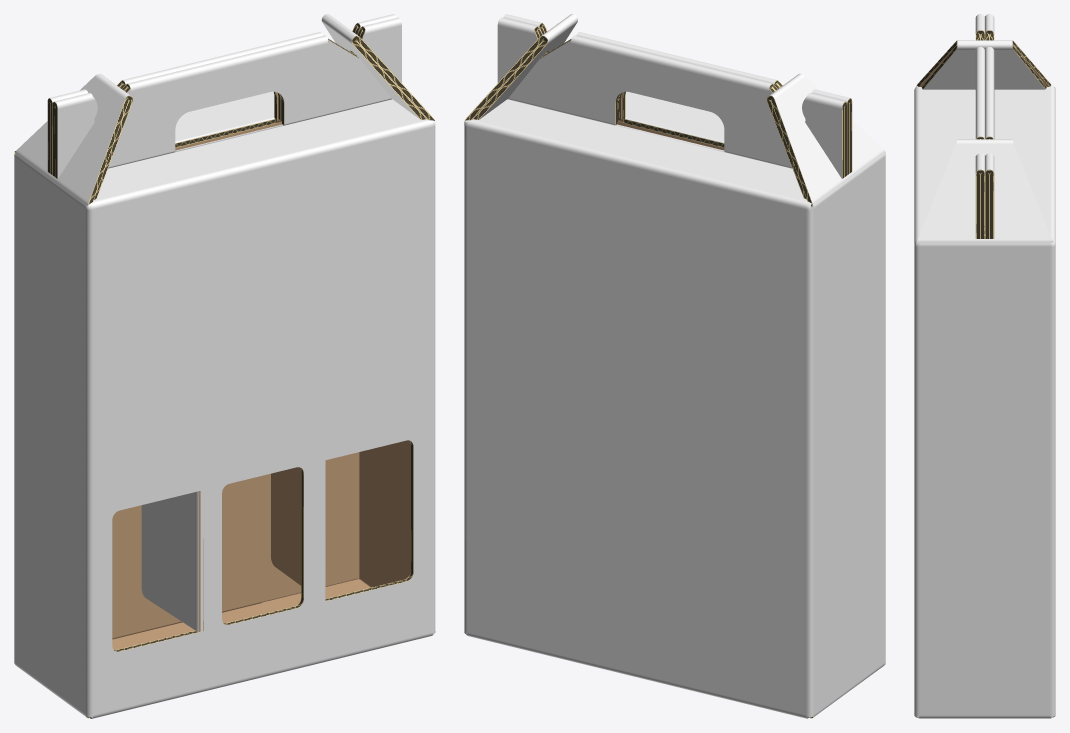
The model's file is Troquel4e0066.gltf.
3 renders of one model, left to right at view 1: azimuth 30°, elevation 25°; view 2: azimuth 150°, elevation 25°; view 3: azimuth 270°, elevation 25°, orthographic. The views are drawn at different scales.
Visible parts, largest first — view 1: _4E0066_ARD-node; view 2: _4E0066_ARD-node; view 3: _4E0066_ARD-node.
Part boxes in pixels (<box>): _4E0066_ARD-node: <box>14,14,435,718</box>; _4E0066_ARD-node: <box>464,14,885,718</box>; _4E0066_ARD-node: <box>914,14,1055,718</box>.
Bounding box in the file's own units: 0.2434 × 0.3983 × 0.0922.
Materials: 3 (1 with a texture image).
